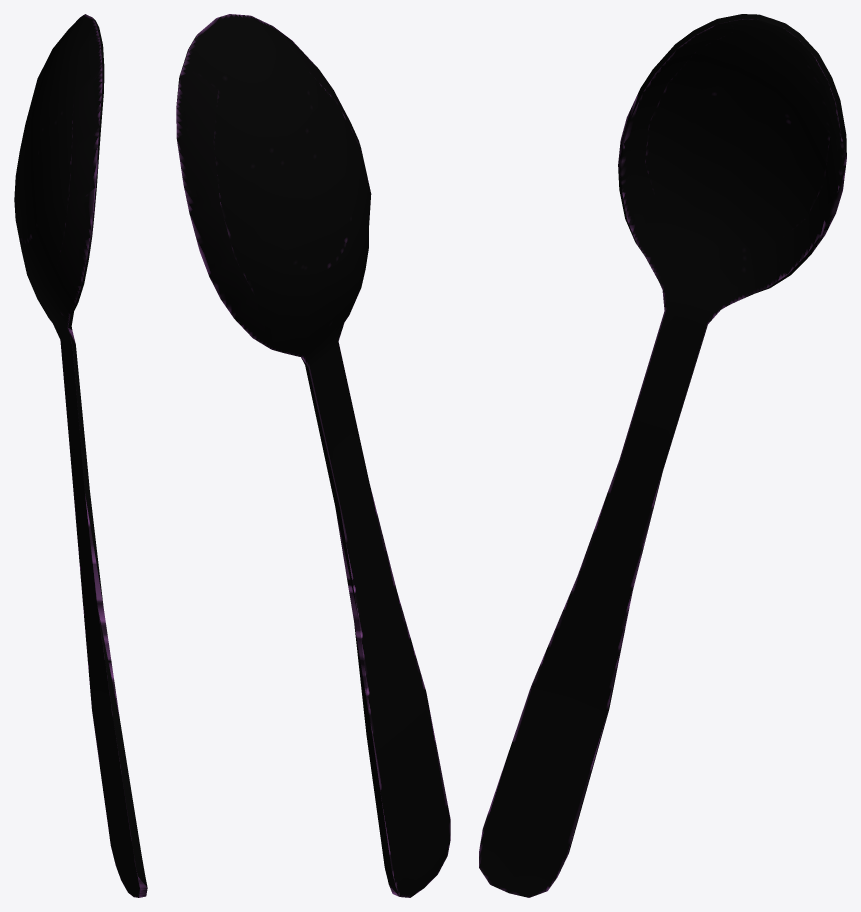
Rendered from Cutlery FBX.glb.
The picture shows the model from 3 angles, left to right: view 1: azimuth 30°, elevation 25°; view 2: azimuth 150°, elevation 25°; view 3: azimuth 270°, elevation 25°; orthographic projection. The views are drawn at different scales.
Visible parts, largest first — view 1: node_id6; view 2: node_id6; view 3: node_id6.
Part boxes in pixels (left/top/right/bottom): node_id6: left=14, top=14, right=147, bottom=897; node_id6: left=176, top=14, right=450, bottom=897; node_id6: left=479, top=14, right=846, bottom=897.
Size of the model in its own units: 0.0604 by 0.4915 by 0.179.
Materials: 1 (1 with a texture image).
